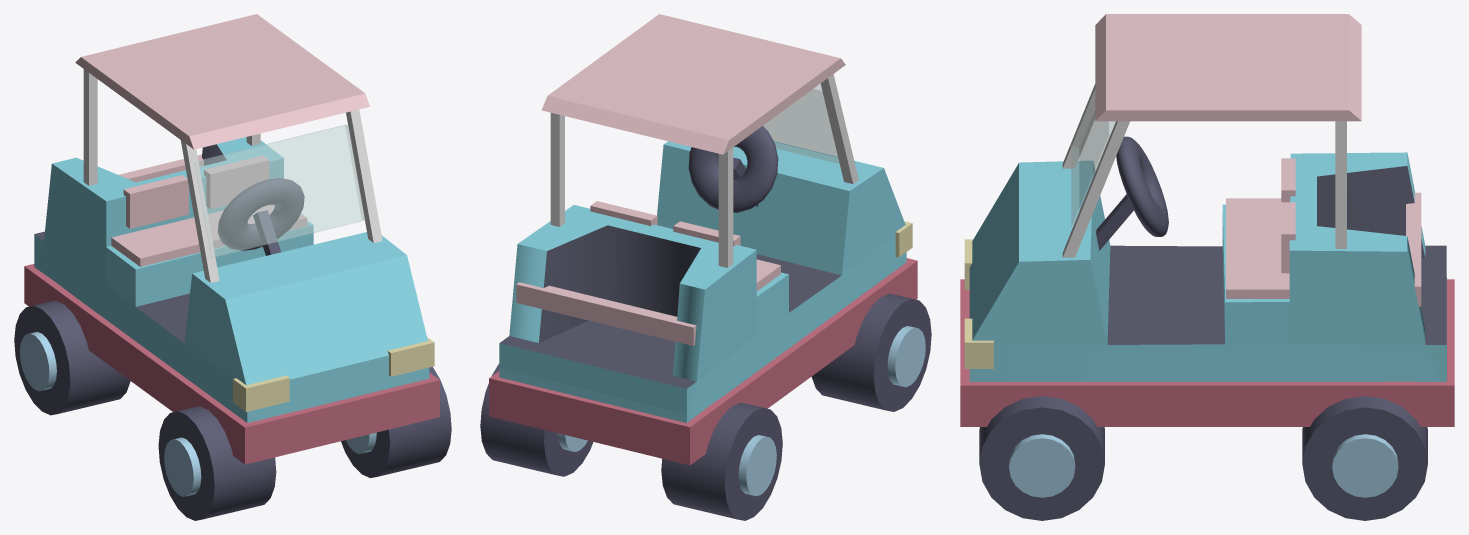
File: golfcart.fbx
3 views of the same model, side by side, from view 1: azimuth 30°, elevation 25°; view 2: azimuth 150°, elevation 25°; view 3: azimuth 270°, elevation 25° (orthographic). The views are drawn at different scales.
Parts seen in each view (by area): view 1: pCube1, pCube3, pasted__pasted__pCube4 (×2), pCube5, pasted__pasted__pCylinder1 (×2), pasted__pCylinder1, pasted__pCube6 (×2), pCylinder1, pTorus1, pasted__pasted__pCube6, pasted__pCube4, pCube4 (+5 smaller); view 2: pCube1, pCube3, pCube5, pasted__pCylinder1 (×2), pasted__pasted__pCylinder1 (×2), pasted__pasted__pCube4 (×2), pCube8, pTorus1, pasted__pCube4 (×2), pasted__pasted__pasted__pCylinder1, pasted__pCube6 (×2), pasted__pasted__pCube6; view 3: pCube1, pCube3, pCube5, pasted__pCylinder1 (×2), pCylinder1, pasted__pCube6 (×2), pasted__pasted__pCylinder1, pTorus1, pasted__pasted__pCube4, pasted__pCube4 (×2), pCube4, pCube8 (+3 smaller).
Part boxes in pixels (bbox=[...]): pCube1: bbox=[34, 137, 429, 422]; pCube3: bbox=[75, 14, 369, 149]; pasted__pasted__pCube4 (×2): bbox=[83, 69, 365, 257]; pCube5: bbox=[24, 264, 439, 464]; pasted__pasted__pCylinder1 (×2): bbox=[14, 300, 201, 496]; pasted__pCylinder1: bbox=[158, 406, 276, 520]; pasted__pCube6 (×2): bbox=[111, 175, 307, 266]; pCylinder1: bbox=[341, 367, 451, 477]; pTorus1: bbox=[217, 178, 304, 250]; pasted__pasted__pCube6: bbox=[204, 155, 269, 209]; pasted__pCube4: bbox=[180, 140, 219, 282]; pCube4: bbox=[346, 109, 382, 242]; pCube1: bbox=[499, 141, 906, 422]; pCube3: bbox=[541, 14, 845, 154]; pCube5: bbox=[489, 258, 917, 465]; pasted__pCylinder1 (×2): bbox=[480, 293, 931, 476]; pasted__pasted__pCylinder1 (×2): bbox=[661, 326, 925, 520]; pasted__pasted__pCube4 (×2): bbox=[718, 84, 839, 267]; pCube8: bbox=[516, 282, 696, 345]; pTorus1: bbox=[688, 126, 778, 212]; pasted__pCube4 (×2): bbox=[550, 74, 858, 226]; pasted__pasted__pasted__pCylinder1: bbox=[738, 435, 776, 496]; pasted__pCube6 (×2): bbox=[673, 221, 780, 291]; pasted__pasted__pCube6: bbox=[590, 201, 657, 225]; pCube1: bbox=[969, 152, 1446, 381]; pCube3: bbox=[1095, 14, 1361, 121]; pCube5: bbox=[960, 279, 1454, 426]; pasted__pCylinder1 (×2): bbox=[1009, 396, 1427, 520]; pCylinder1: bbox=[979, 396, 1104, 520]; pasted__pCube6 (×2): bbox=[1226, 158, 1295, 298]; pasted__pasted__pCylinder1: bbox=[1332, 434, 1398, 497]; pTorus1: bbox=[1116, 136, 1168, 236]; pasted__pasted__pCube4: bbox=[1071, 85, 1115, 227]; pasted__pCube4 (×2): bbox=[1062, 84, 1346, 248]; pCube4: bbox=[1062, 121, 1129, 257]; pCube8: bbox=[1406, 192, 1421, 306].
Bounding box in the file's own units: 7.15 × 9.54 × 10.82.
